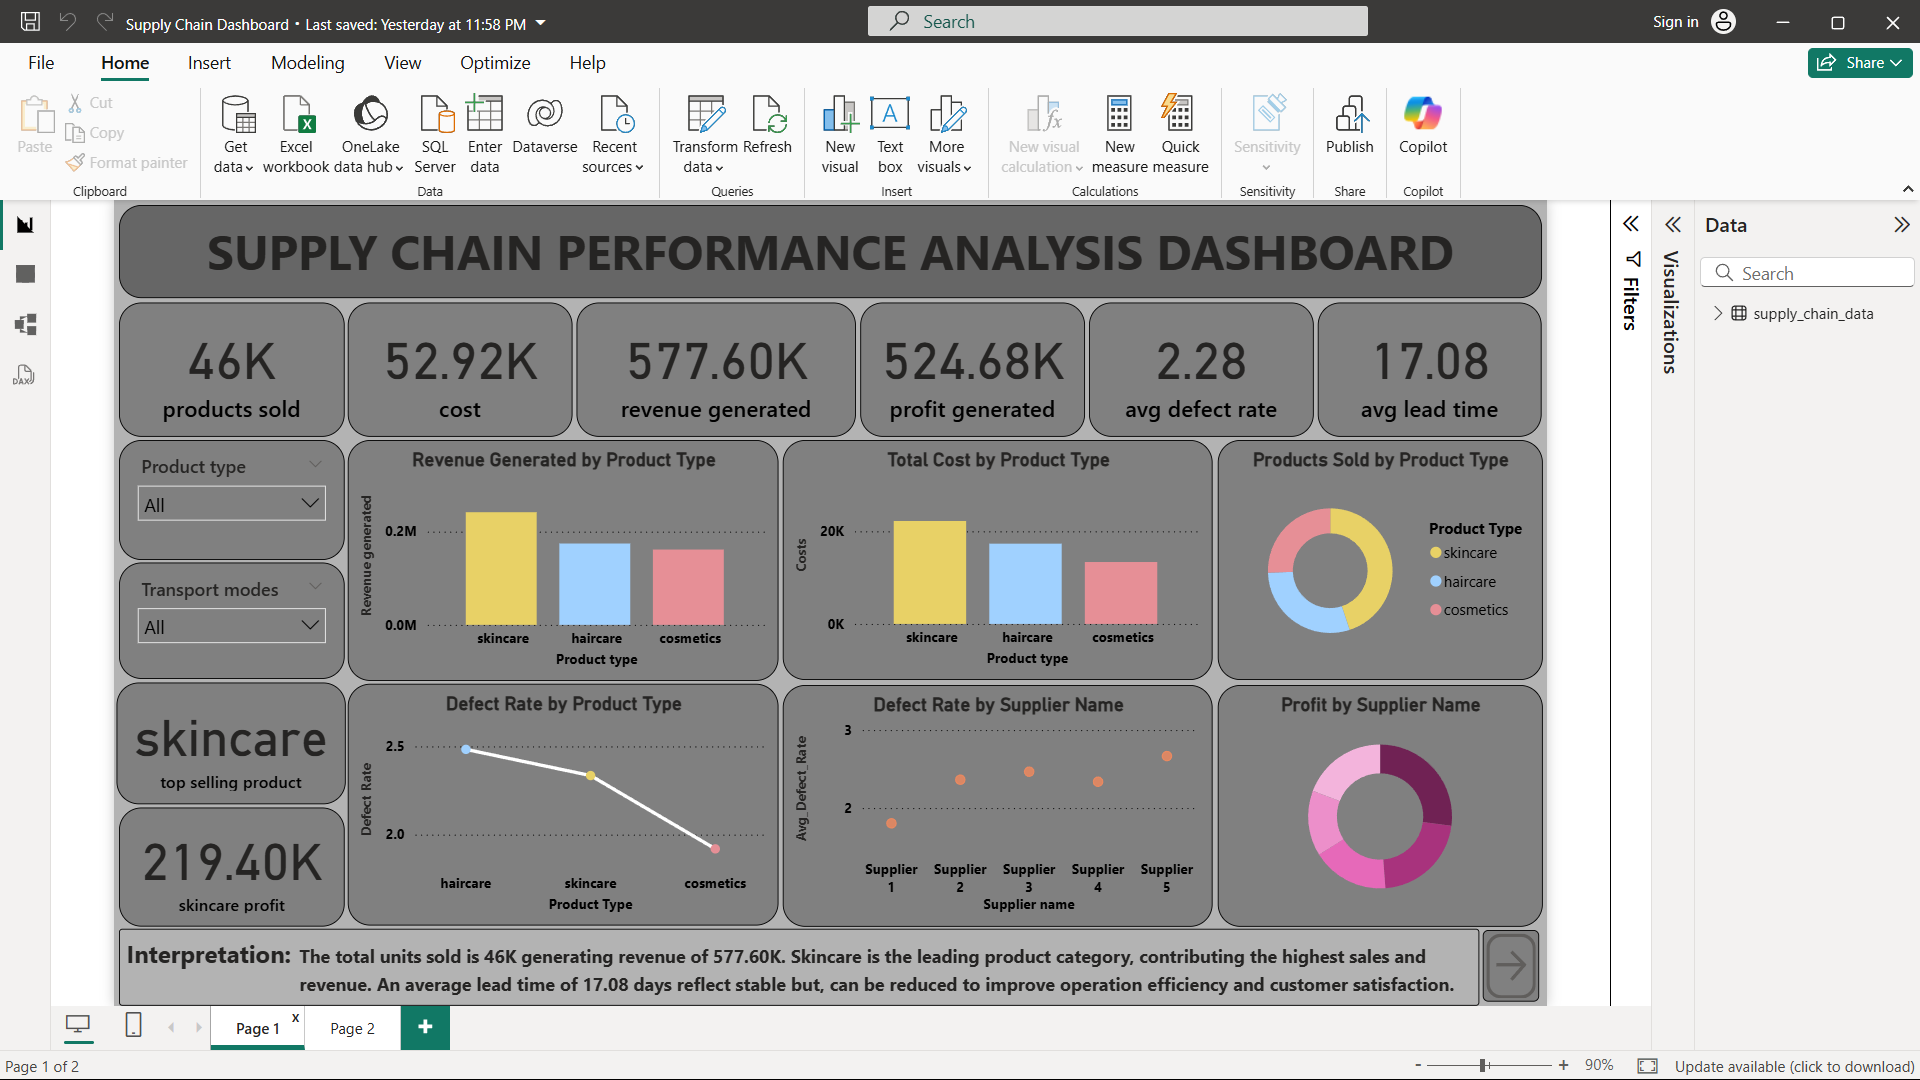

The page's visual inventory and layout, read from the dashboard file:
{"tool":"powerbi","page":{"name":"Page 1","canvas":[1280,720],"ordinal":0},"visuals":[{"type":"slicer","fields":{"Values":["supply_chain_data.Product type"]},"box":[4.3,214.3,201.4,107.1],"z":0},{"type":"slicer","fields":{"Values":["supply_chain_data.Transportation modes"]},"box":[4.3,324.3,201.4,104.3],"z":1000},{"type":"columnChart","title":"Total Cost by Product Type","fields":{"Category":["supply_chain_data.Product type"],"Y":["Sum(supply_chain_data.Costs)"]},"box":[597.1,214.3,384.3,214.3],"z":2000},{"type":"donutChart","fields":{"Category":["supply_chain_data.Product type"],"Y":["Sum(supply_chain_data.Number of products sold)"]},"box":[985.7,214.3,290,214.3],"z":3000},{"type":"lineStackedColumnComboChart","title":" Revenue Generated by Product Type","fields":{"Category":["supply_chain_data.Product type"],"Y":["Sum(supply_chain_data.Revenue generated)"]},"box":[209.3,214,384.9,215.1],"z":4000},{"type":"lineChart","title":"Defect Rate by Product Type","fields":{"Category":["supply_chain_data.Product type"],"Y":["Avg(supply_chain_data.Defect rates)"]},"box":[209.3,432.6,384.9,216.3],"z":5000},{"type":"card","fields":{"Values":["supply_chain_data.Avg_Defect_Rate"]},"box":[871.2,91.4,200.4,120],"z":6000},{"type":"card","fields":{"Values":["supply_chain_data.avg_lead_time"]},"box":[1075.7,91.4,200,120],"z":7000},{"type":"actionButton","box":[1223,651.7,50.4,64.1],"z":8000},{"type":"scatterChart","title":"Defect Rate by Supplier Name","fields":{"X":["supply_chain_data.Supplier name"],"Y":["supply_chain_data.Avg_Defect_Rate"]},"box":[597.1,432.9,384.3,215.7],"z":9000},{"type":"textbox","box":[4.3,4.3,1271.4,82.9],"z":10000},{"type":"card","fields":{"Values":["Sum(supply_chain_data.Number of products sold)"]},"box":[4.3,91.4,201.4,120],"z":11000},{"type":"card","fields":{"Values":["Sum(supply_chain_data.Revenue generated)"]},"box":[413.1,91.4,249.5,120],"z":12000},{"type":"card","fields":{"Values":["Sum(supply_chain_data.Costs)"]},"box":[208.6,91.4,200.4,120],"z":13000},{"type":"card","fields":{"Values":["supply_chain_data.Profit"]},"box":[666.7,91.4,200.4,120],"z":14000},{"type":"donutChart","fields":{"Category":["supply_chain_data.Supplier name"],"Y":["supply_chain_data.Profit"]},"box":[985.7,432.9,290,215.7],"z":15000},{"type":"card","fields":{"Values":["supply_chain_data.top_selling_product"]},"box":[2.7,430.8,204.5,109.1],"z":16000},{"type":"textbox","box":[4.7,651.2,1215.1,68.6],"z":17000},{"type":"card","fields":{"Values":["supply_chain_data.profit_skincare"]},"box":[4.1,542.7,201.8,106.3],"z":18000}]}

Visuals, with their boxes on the page's 1280x720 design canvas (x1, y1, x2, y2). These are canvas units, not pixel positions in the 1920x1080 screenshot, which may show the page scaled, cropped or inside an application window:
slicer - supply_chain_data.Product type: 4/214/206/321
slicer - supply_chain_data.Transportation modes: 4/324/206/429
"Total Cost by Product Type" columnChart: 597/214/981/429
donutChart - supply_chain_data.Product type x Sum(supply_chain_data.Number of products sold): 986/214/1276/429
" Revenue Generated by Product Type" lineStackedColumnComboChart: 209/214/594/429
"Defect Rate by Product Type" lineChart: 209/433/594/649
card - supply_chain_data.Avg_Defect_Rate: 871/91/1072/211
card - supply_chain_data.avg_lead_time: 1076/91/1276/211
actionButton: 1223/652/1273/716
"Defect Rate by Supplier Name" scatterChart: 597/433/981/649
textbox: 4/4/1276/87
card - Sum(supply_chain_data.Number of products sold): 4/91/206/211
card - Sum(supply_chain_data.Revenue generated): 413/91/663/211
card - Sum(supply_chain_data.Costs): 209/91/409/211
card - supply_chain_data.Profit: 667/91/867/211
donutChart - supply_chain_data.Supplier name x supply_chain_data.Profit: 986/433/1276/649
card - supply_chain_data.top_selling_product: 3/431/207/540
textbox: 5/651/1220/720
card - supply_chain_data.profit_skincare: 4/543/206/649
